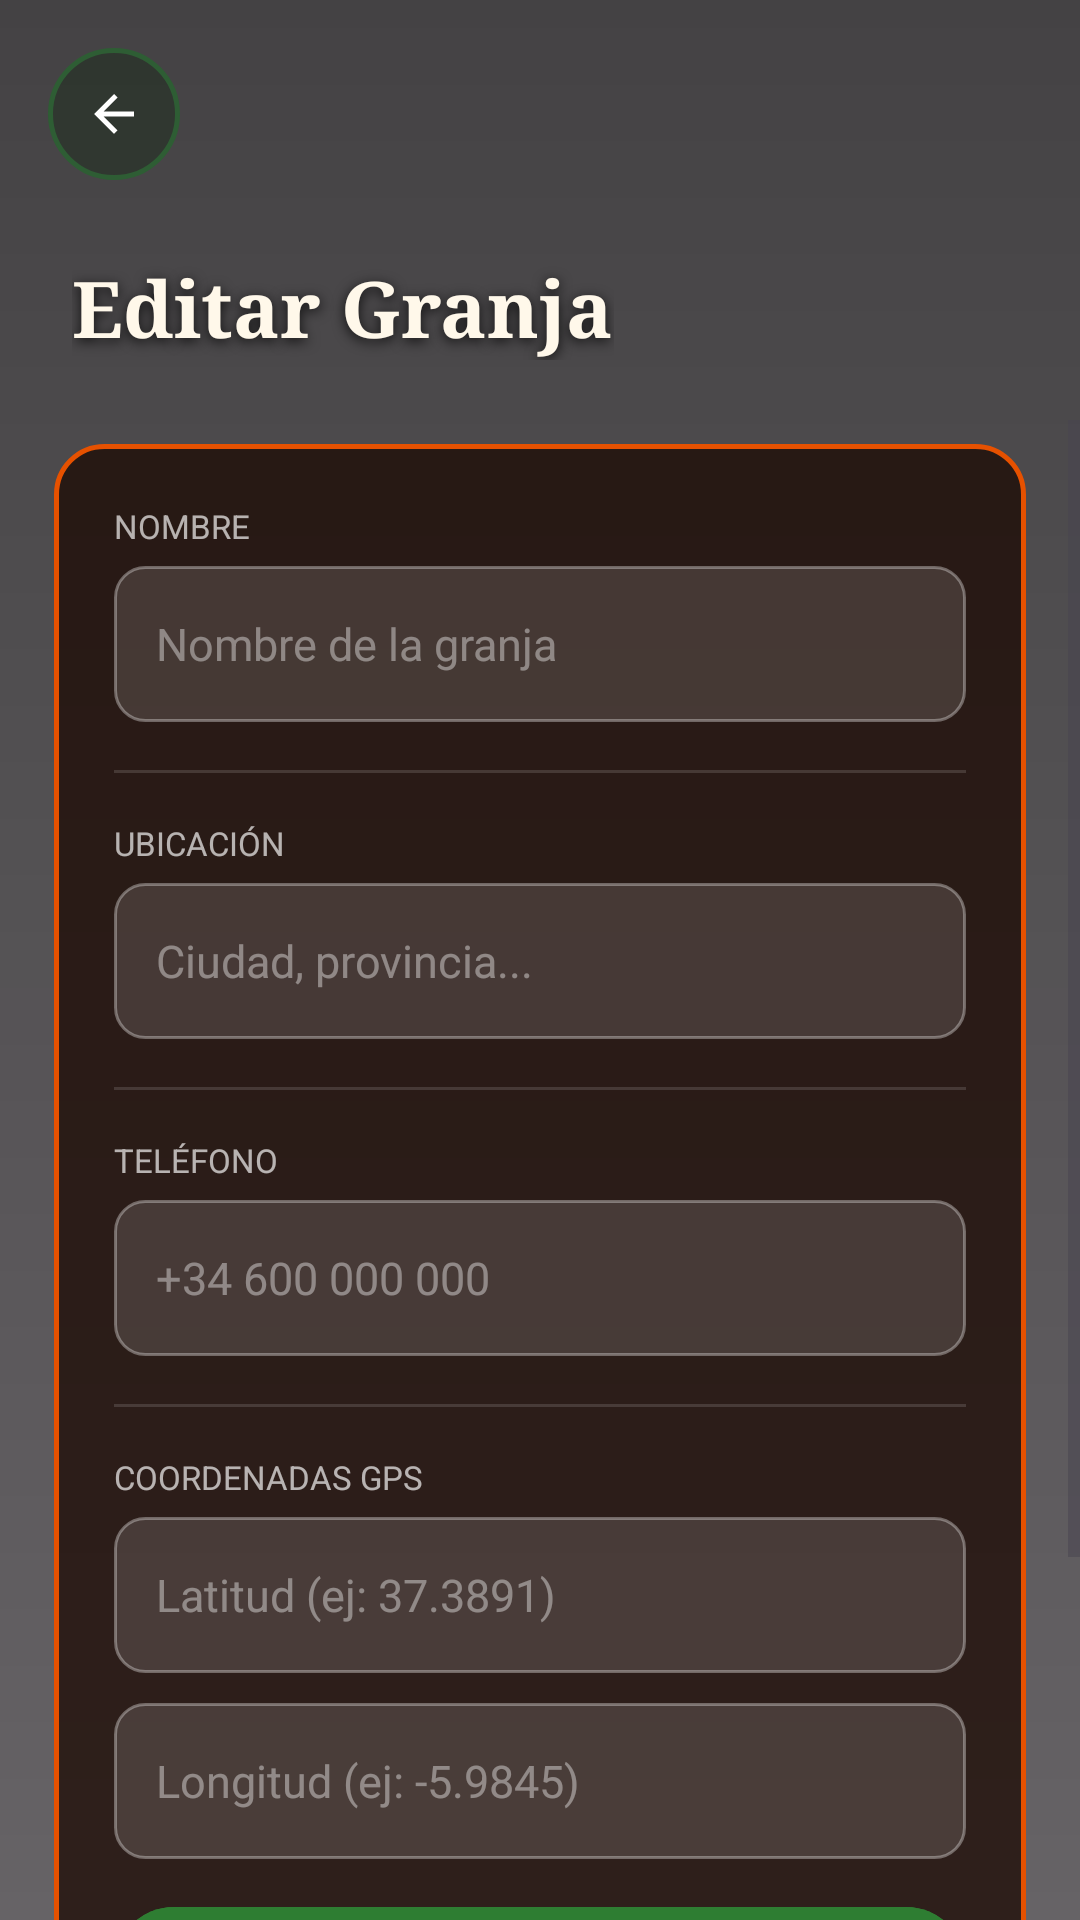

Point at icon controls on the screen. Image size 1080px×1920px, points as [x,y].
arrow back: [114,114]
